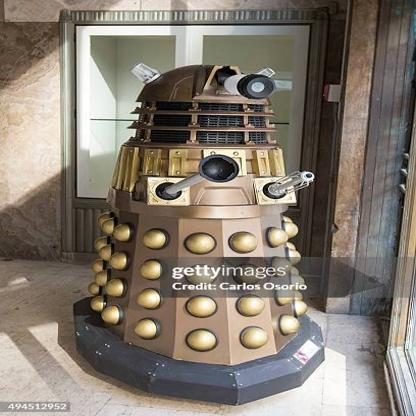dalek: (67, 41, 333, 407)
